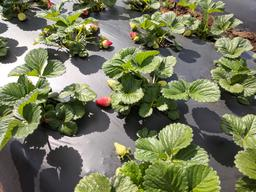green strawberry: (114, 141, 131, 159), (17, 12, 28, 21)
red strawberry: (96, 96, 112, 107), (102, 39, 113, 48)
